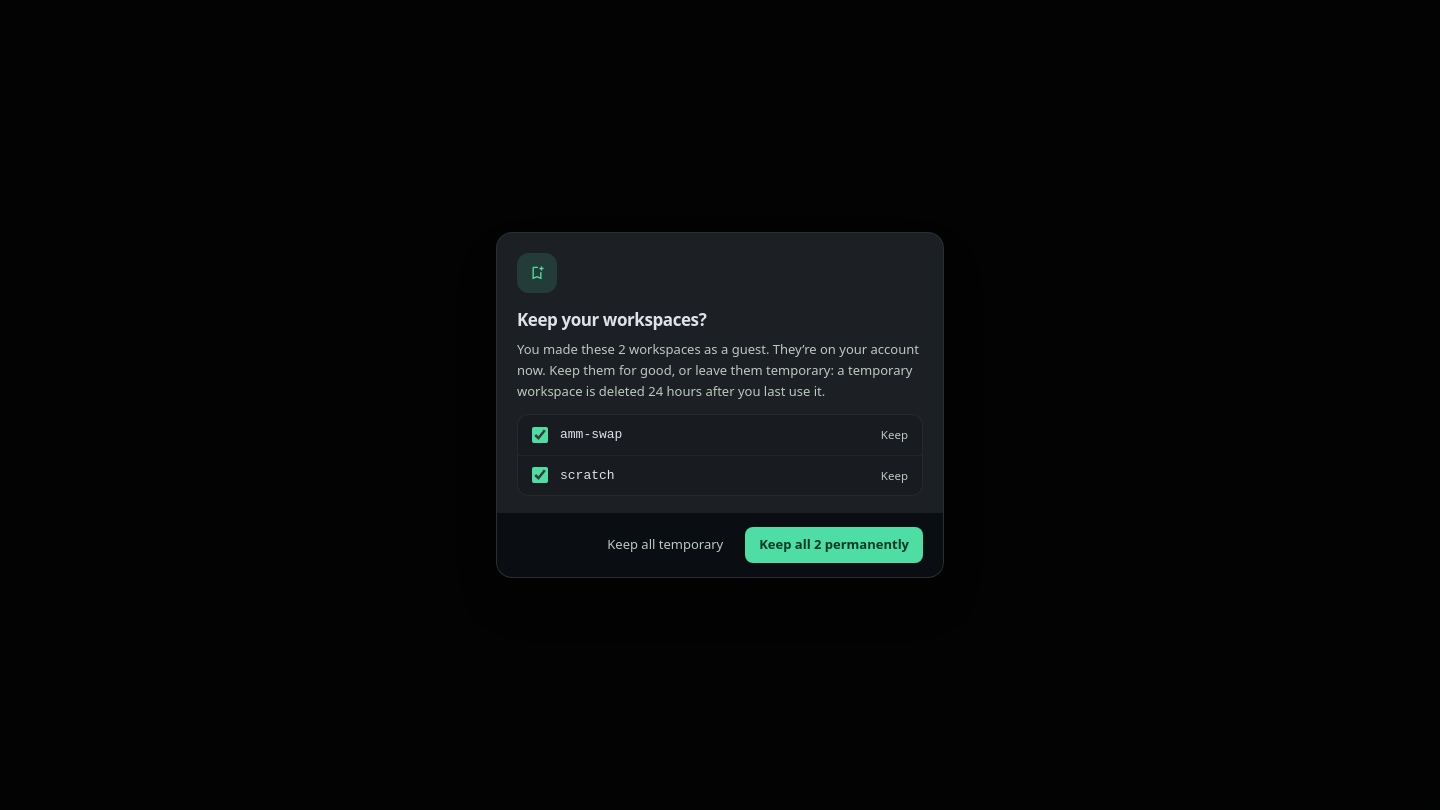
Test: KeepWorkspacesDialog › shows an error and stays open when saving fails
Click the button "Keep all 2 permanently".
click(834, 545)  # box [745,527,923,563]
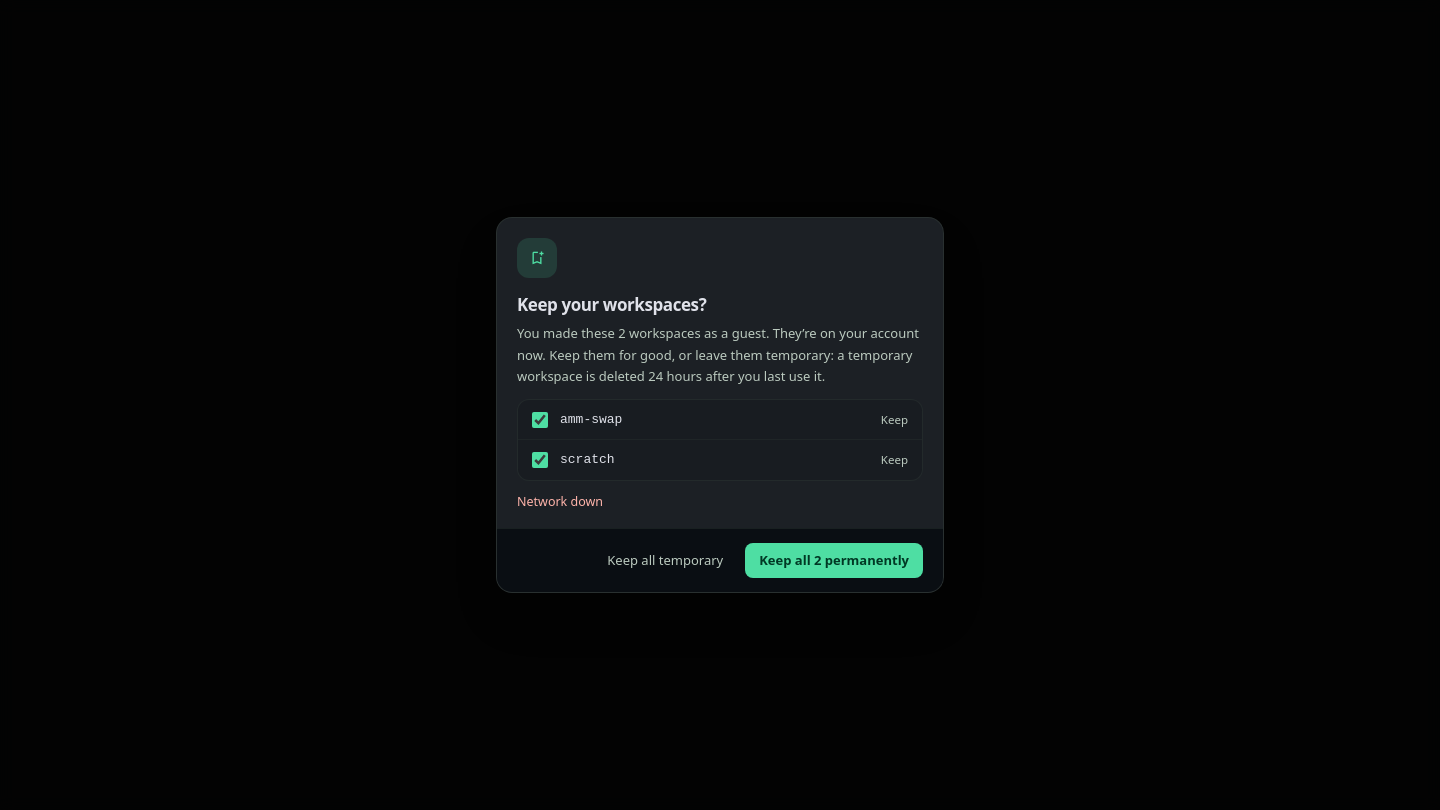
Result: the message reads "Network down" at [517,493,603,510]
